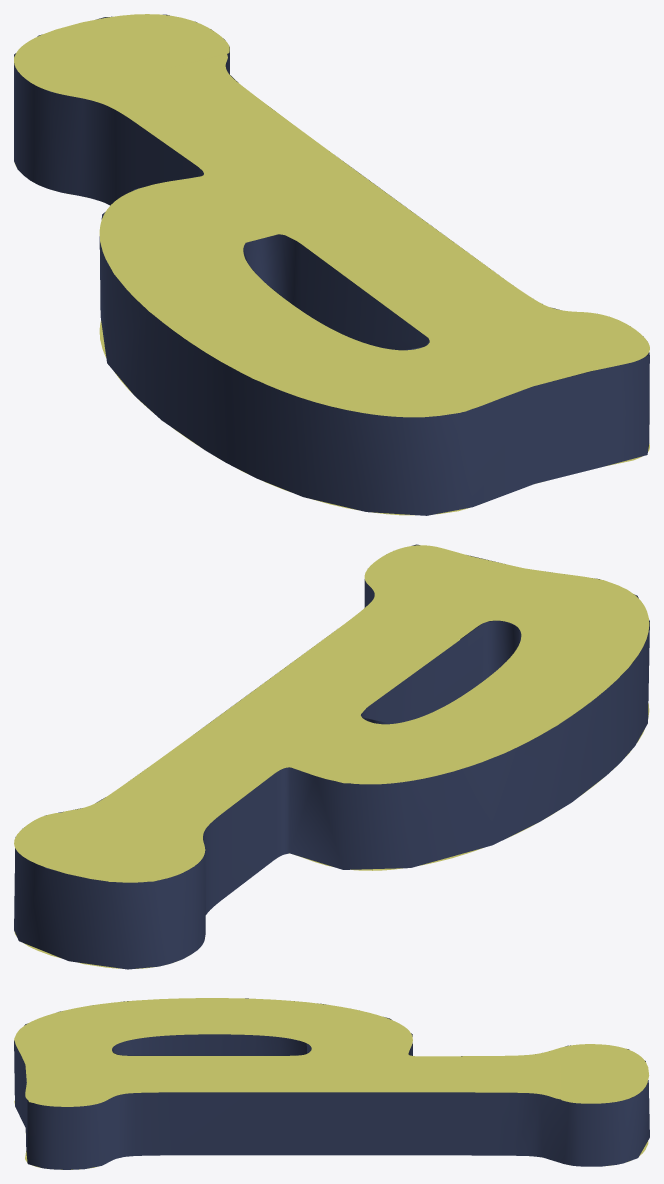
The model's file is p_boss.fbx.
The picture shows the model from 3 angles, top to bottom: view 1: azimuth 30°, elevation 25°; view 2: azimuth 150°, elevation 25°; view 3: azimuth 270°, elevation 25°; orthographic projection. The views are drawn at different scales.
Visible parts, largest first — view 1: P; view 2: P; view 3: P.
Boxes of the visible parts, box(x1,y1,x2,y2) form: P: box(14, 14, 649, 515); P: box(14, 544, 649, 969); P: box(14, 998, 649, 1169).
Bounding box in the file's own units: 0.5929 × 0.1599 × 1.46.
